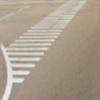crosswalks: (5, 0, 87, 83)
